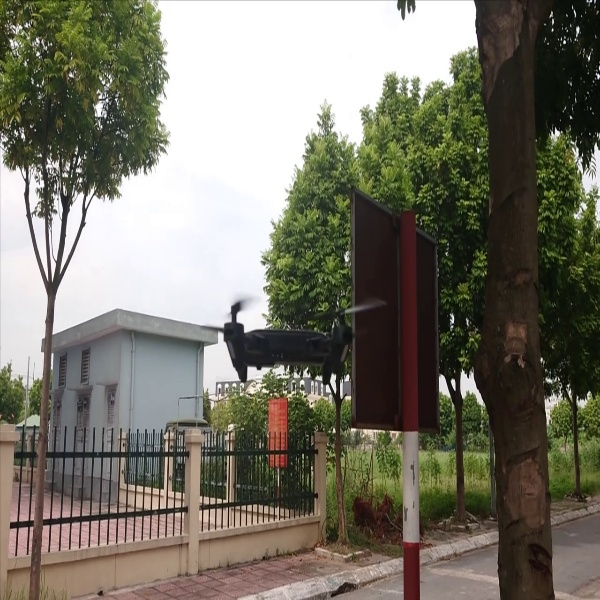drone: (210, 283, 384, 391)
